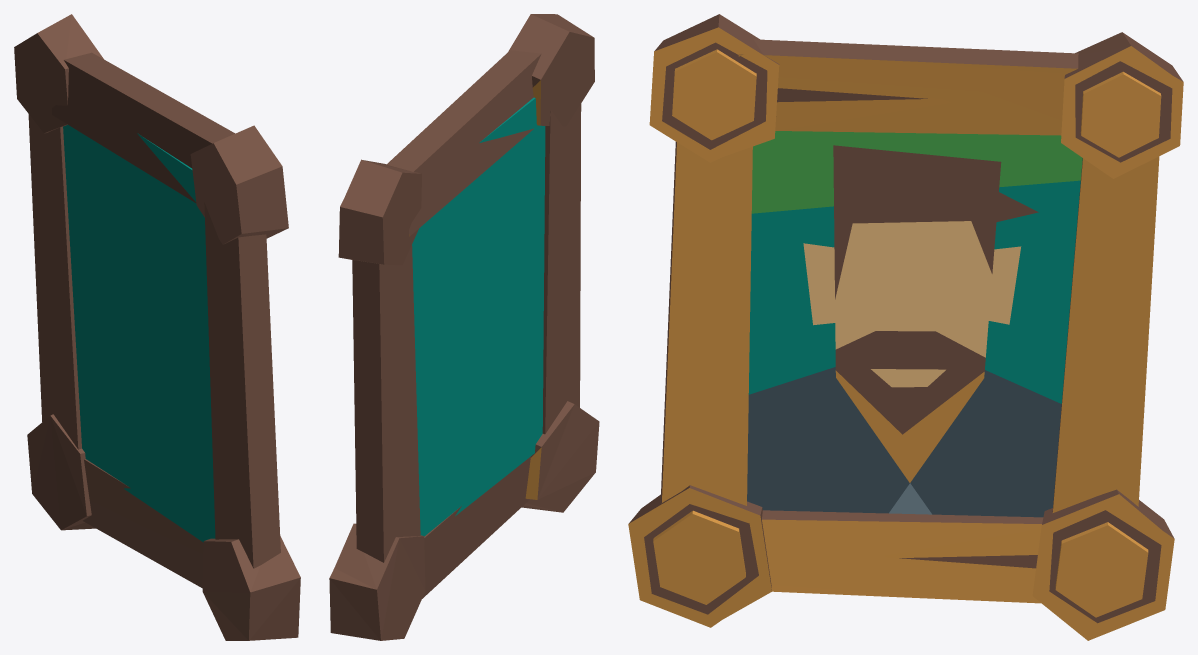
The model's file is Painting.001.fbx.
3 views of the same model, side by side, from view 1: azimuth 30°, elevation 25°; view 2: azimuth 150°, elevation 25°; view 3: azimuth 270°, elevation 25° (orthographic). The views are drawn at different scales.
Parts seen in each view (by area): view 1: Painting.001; view 2: Painting.001; view 3: Painting.001.
Boxes of the visible parts, x1,y1,x2,y2 form: Painting.001: (14,14,300,640); Painting.001: (329,14,599,640); Painting.001: (628,14,1183,640).
Size of the model in its own units: 0.1362 by 1.06 by 0.8843.
